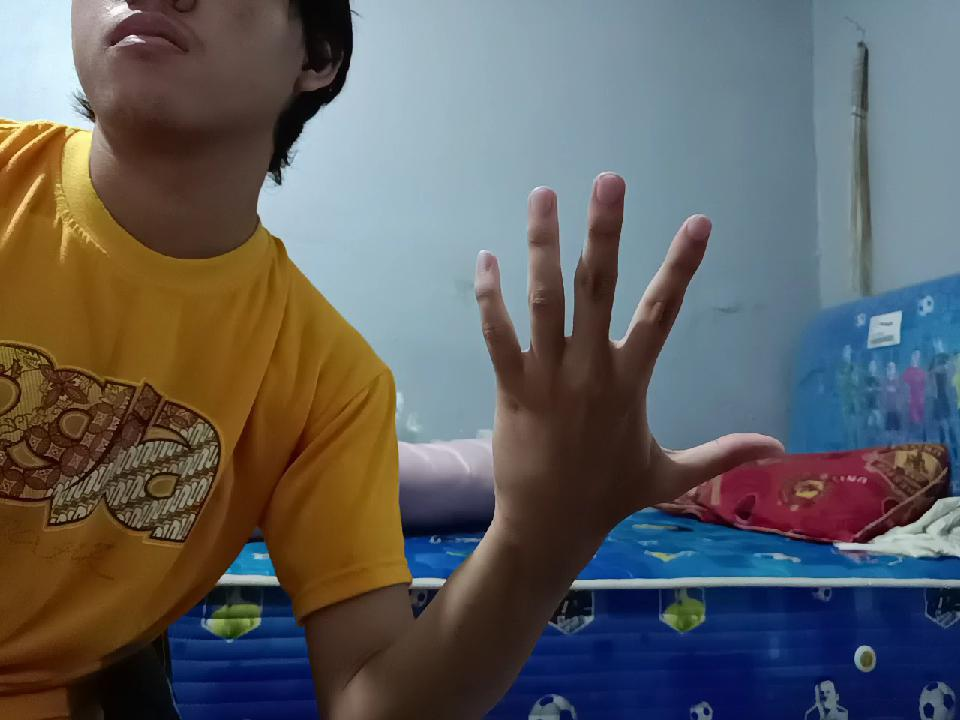paper: (472, 186, 736, 544)
